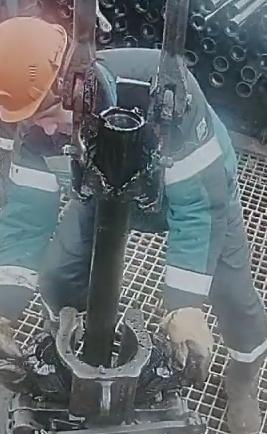gloves: (162, 290, 215, 386)
helmet: (0, 15, 67, 123)
vest: (0, 49, 233, 265)
